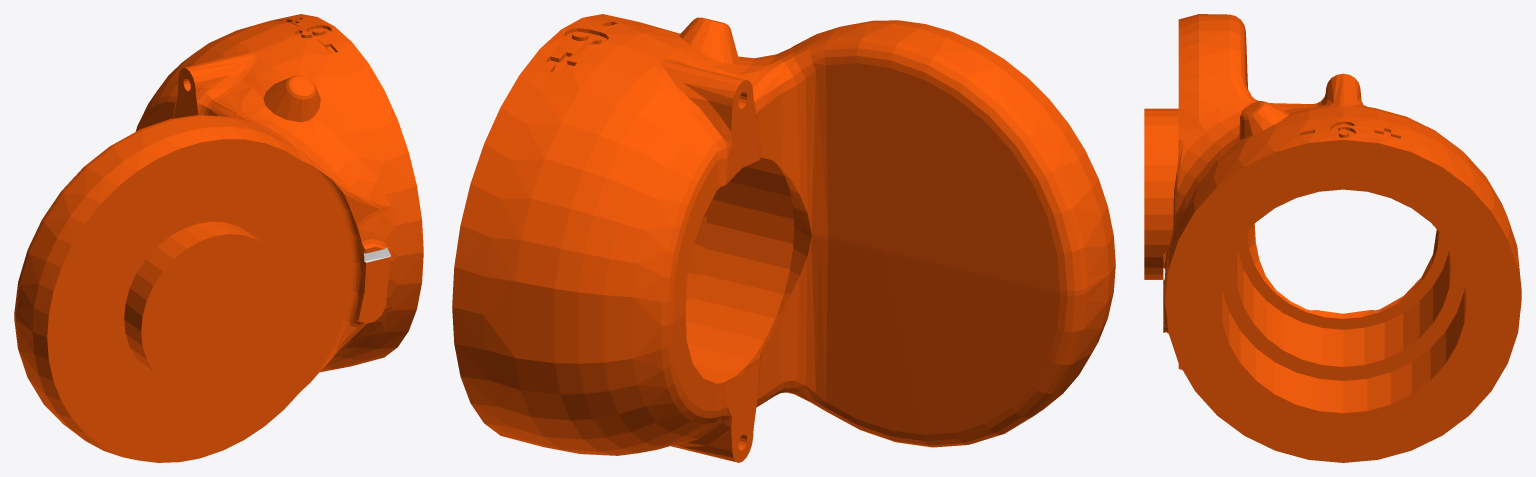
The picture shows the model from 3 angles, left to right: view 1: azimuth 30°, elevation 25°; view 2: azimuth 150°, elevation 25°; view 3: azimuth 270°, elevation 25°; orthographic projection. The views are drawn at different scales.
Parts seen in each view (by area): view 1: link_5; view 2: link_5; view 3: link_5.
Boxes of the visible parts, x1,y1,x2,y2 form: link_5: [14, 14, 423, 462]; link_5: [452, 14, 1115, 462]; link_5: [1144, 14, 1521, 462].
Size of the model in its own units: 0.1266 by 0.11 by 0.1052.
